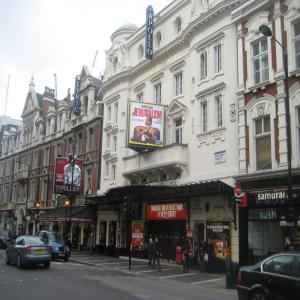Vehicle-registration-plate: (37, 251, 44, 253), (60, 255, 65, 257)
